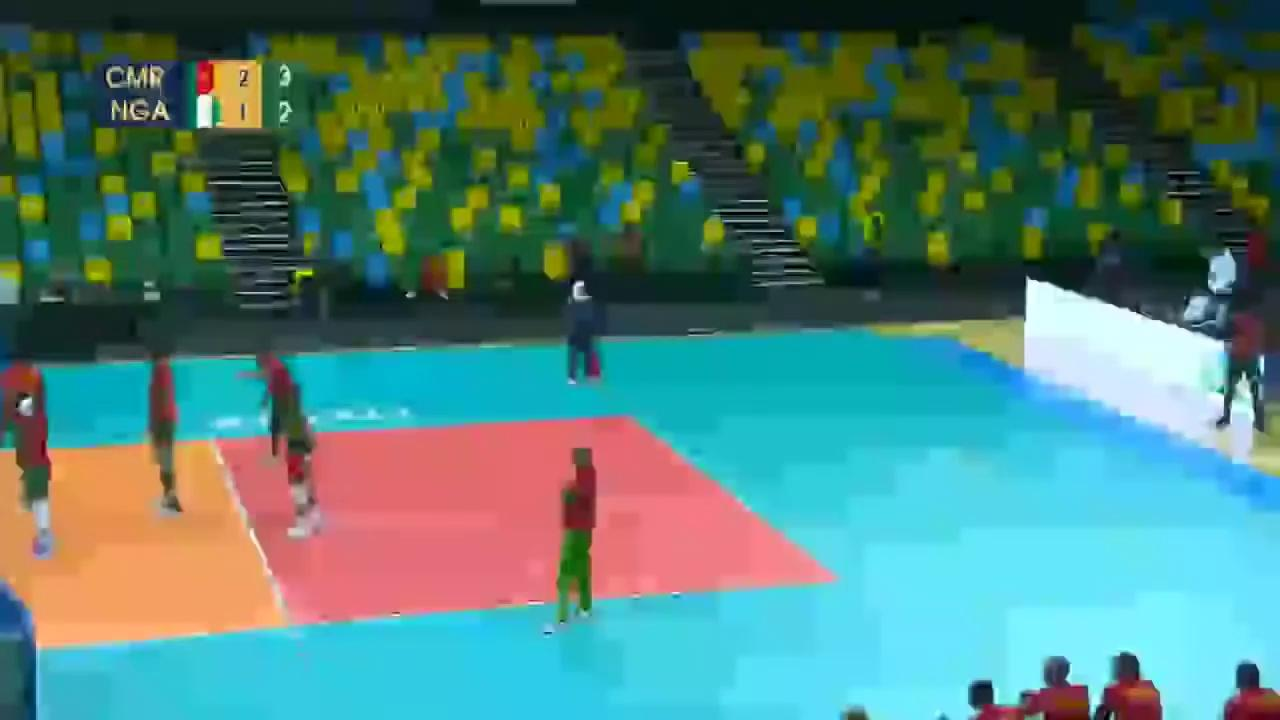player: (141, 339, 195, 515), (239, 341, 309, 471), (273, 389, 333, 530), (19, 384, 65, 554), (0, 334, 55, 464)
refree: (562, 276, 604, 383)
